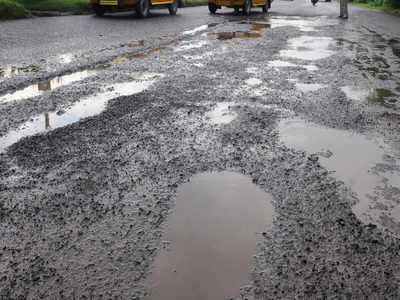pothole: (133, 167, 293, 298), (0, 63, 171, 161), (273, 100, 399, 221), (287, 29, 331, 63), (244, 17, 283, 31), (218, 31, 265, 42)
